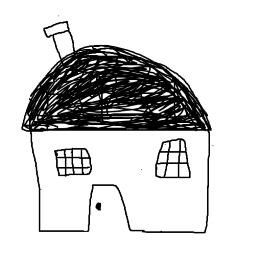chimney: (38, 16, 81, 67)
closed_window: (155, 138, 194, 183), (48, 145, 97, 178)
door: (83, 181, 134, 236)
shaded_roof: (16, 44, 220, 138)
wall: (26, 123, 213, 236)
